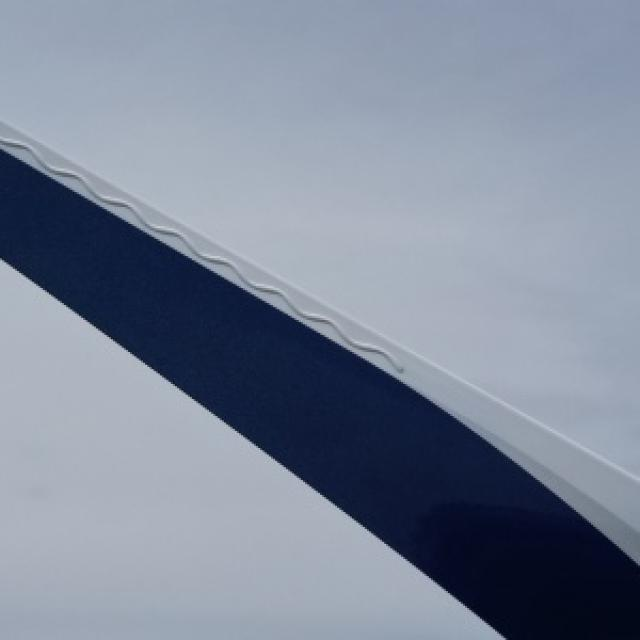healthy: (0, 151, 638, 638), (0, 260, 497, 638)
